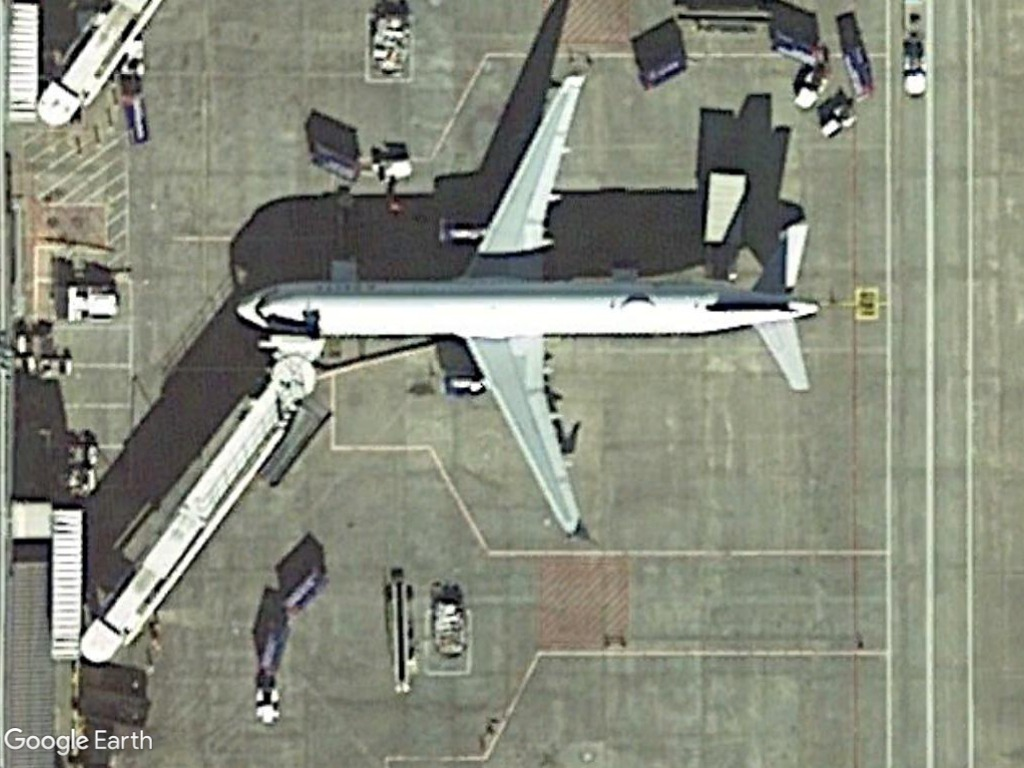airliner: (227, 62, 825, 566)
